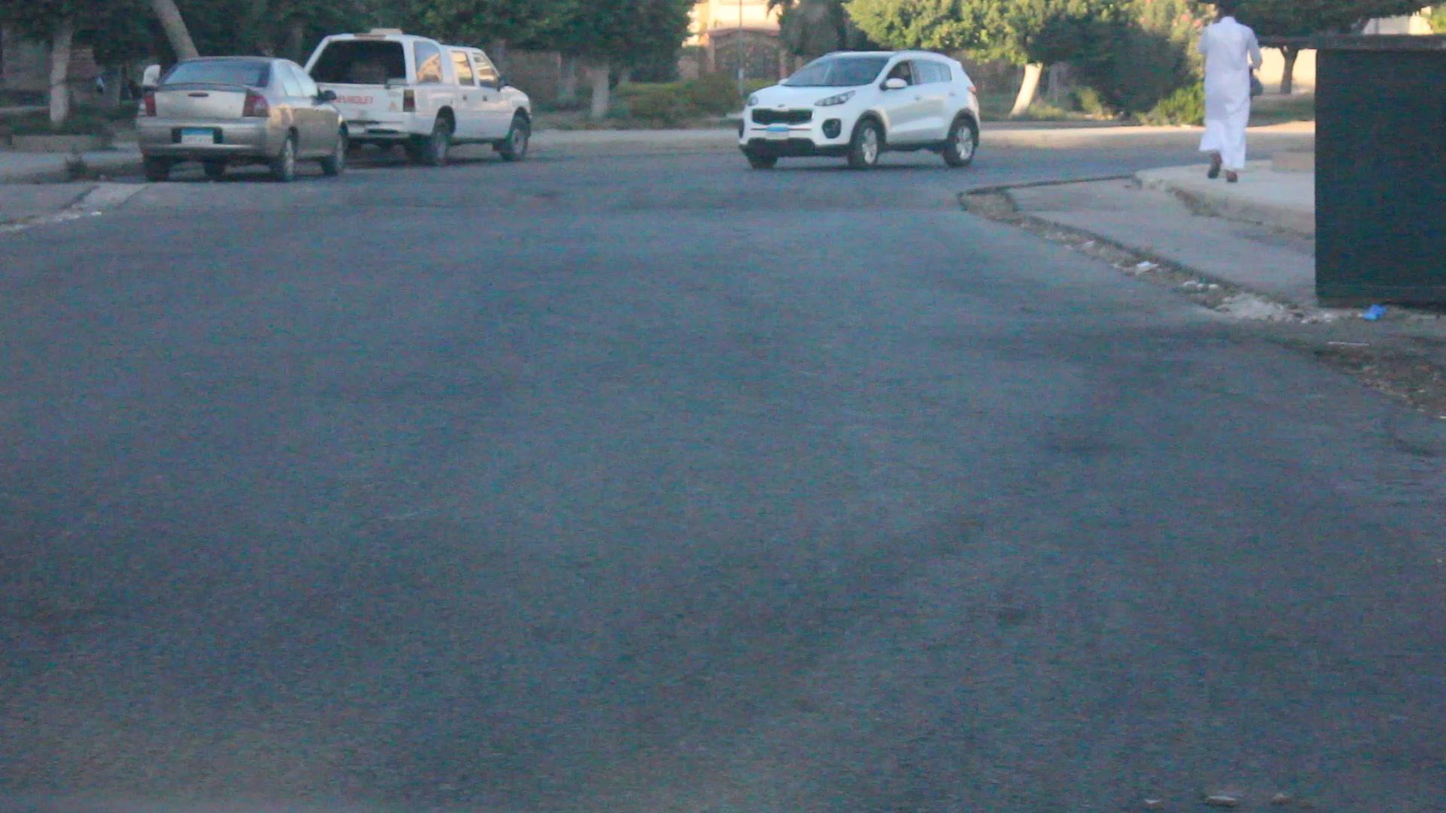Bump: (98, 175, 972, 215)
